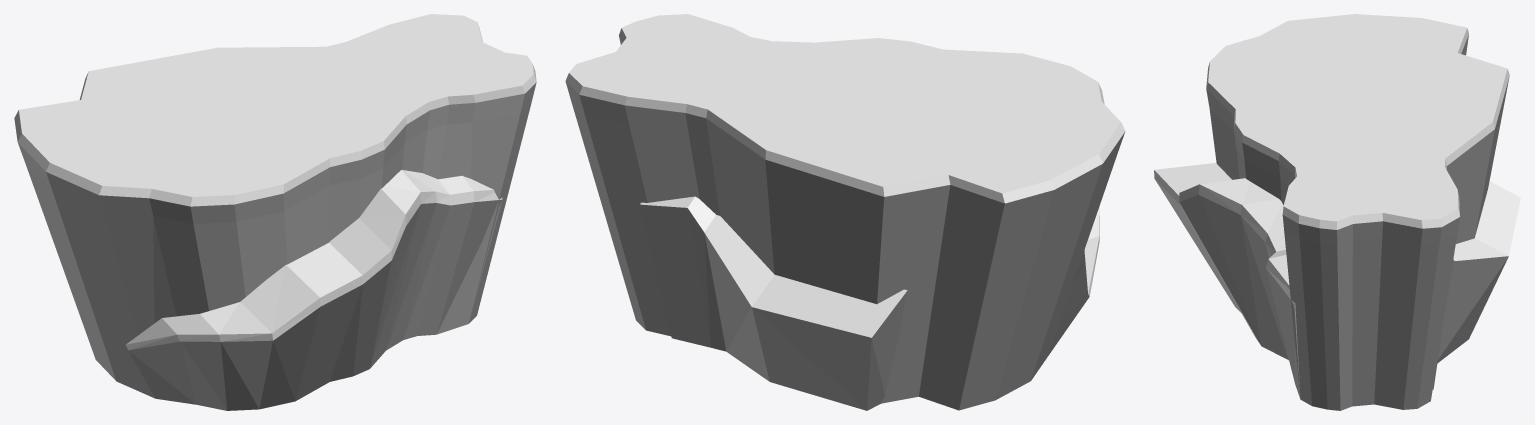
Rendered from DWE_Cliff_01A.fbx.
3 renders of one model, left to right at view 1: azimuth 30°, elevation 25°; view 2: azimuth 150°, elevation 25°; view 3: azimuth 270°, elevation 25°, orthographic. The views are drawn at different scales.
Visible parts, largest first — view 1: DWE_Cliff_01A; view 2: DWE_Cliff_01A; view 3: DWE_Cliff_01A.
Part boxes in pixels (box(x1,y1,x2,y2)): DWE_Cliff_01A: box(14, 14, 536, 410); DWE_Cliff_01A: box(565, 14, 1125, 410); DWE_Cliff_01A: box(1154, 14, 1520, 410).
Size of the model in its own units: 1045 by 493 by 769.
